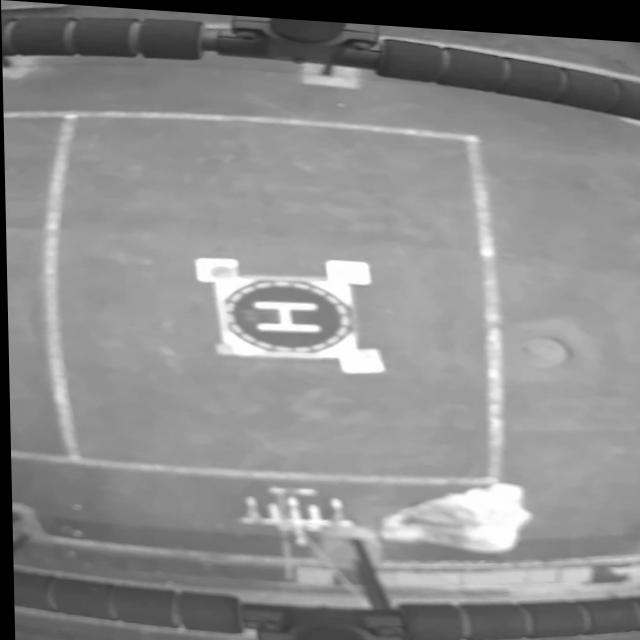Helipad: (249, 298, 318, 329)
